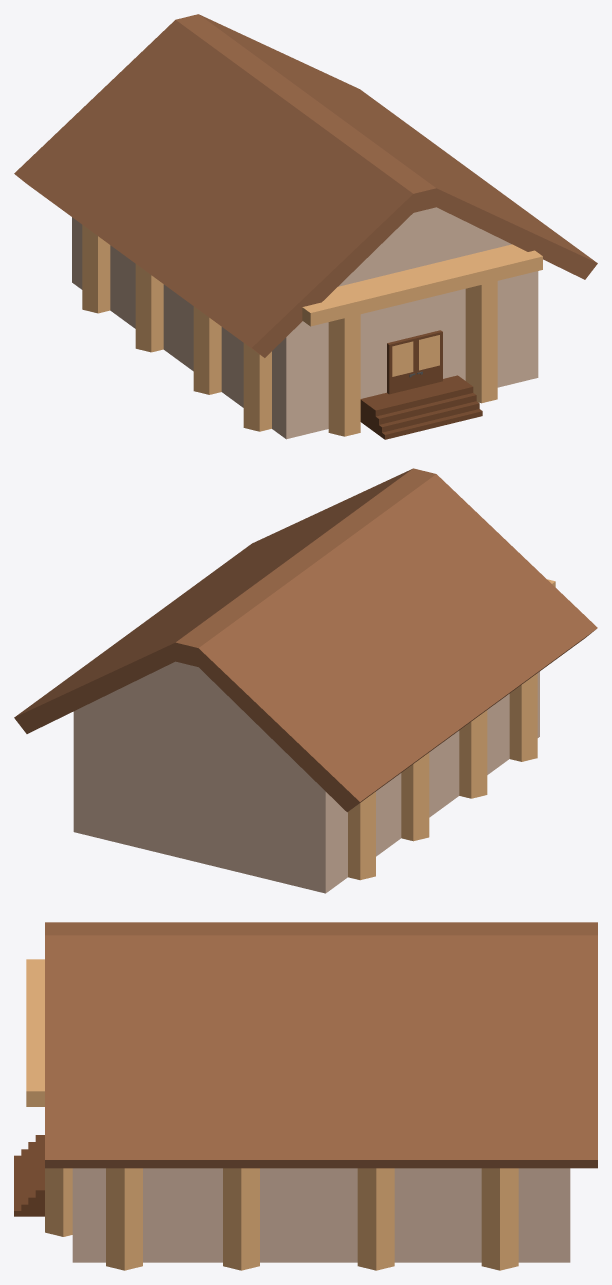
File: CourtHouse.fbx
The picture shows the model from 3 angles, top to bottom: view 1: azimuth 30°, elevation 25°; view 2: azimuth 150°, elevation 25°; view 3: azimuth 270°, elevation 25°; orthographic projection. The views are drawn at different scales.
Parts seen in each view (by area): view 1: pCube35; view 2: pCube35; view 3: pCube35.
Boxes of the visible parts, box(x1,y1,x2,y2) form: pCube35: box(14, 14, 597, 439); pCube35: box(14, 468, 597, 893); pCube35: box(14, 922, 597, 1270).
Size of the model in its own units: 1.56 by 0.9718 by 1.96.
